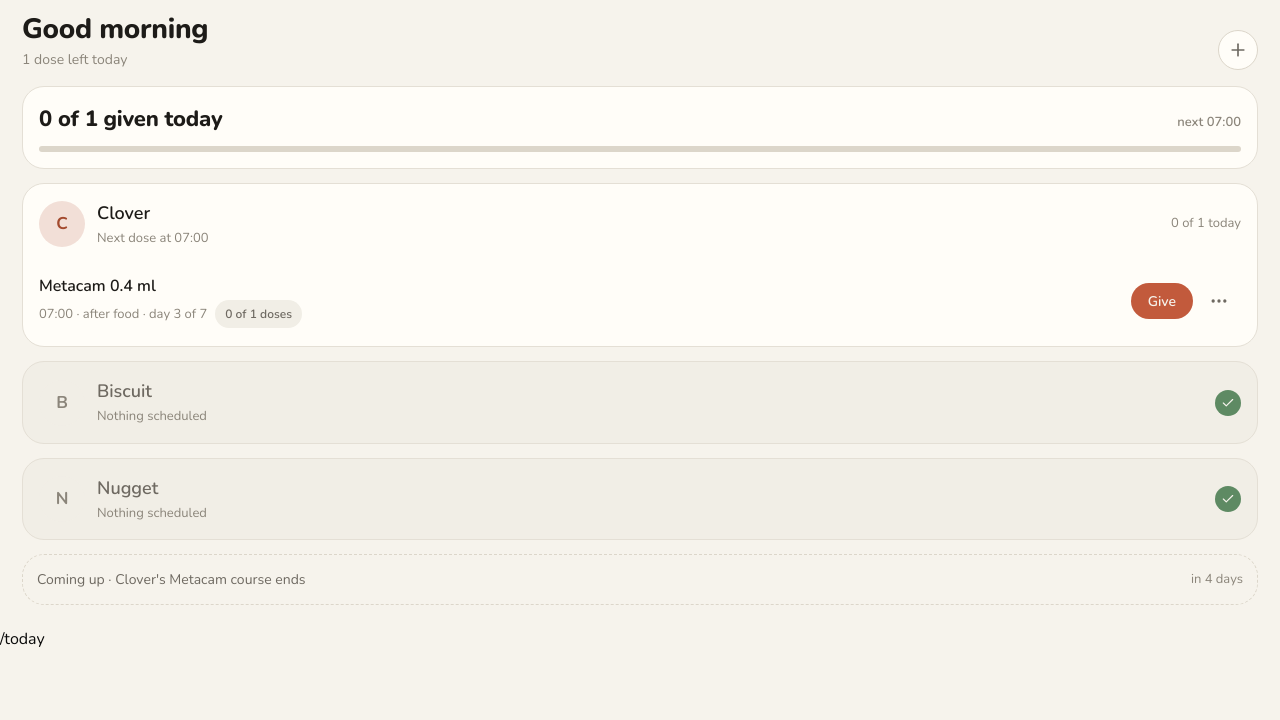
Test: TodayPage › closes the sheet without logging when dismissed via its close control, without leaving the dashboard
Click the button named "more options": point(1219, 301) [1197,279,1241,323]
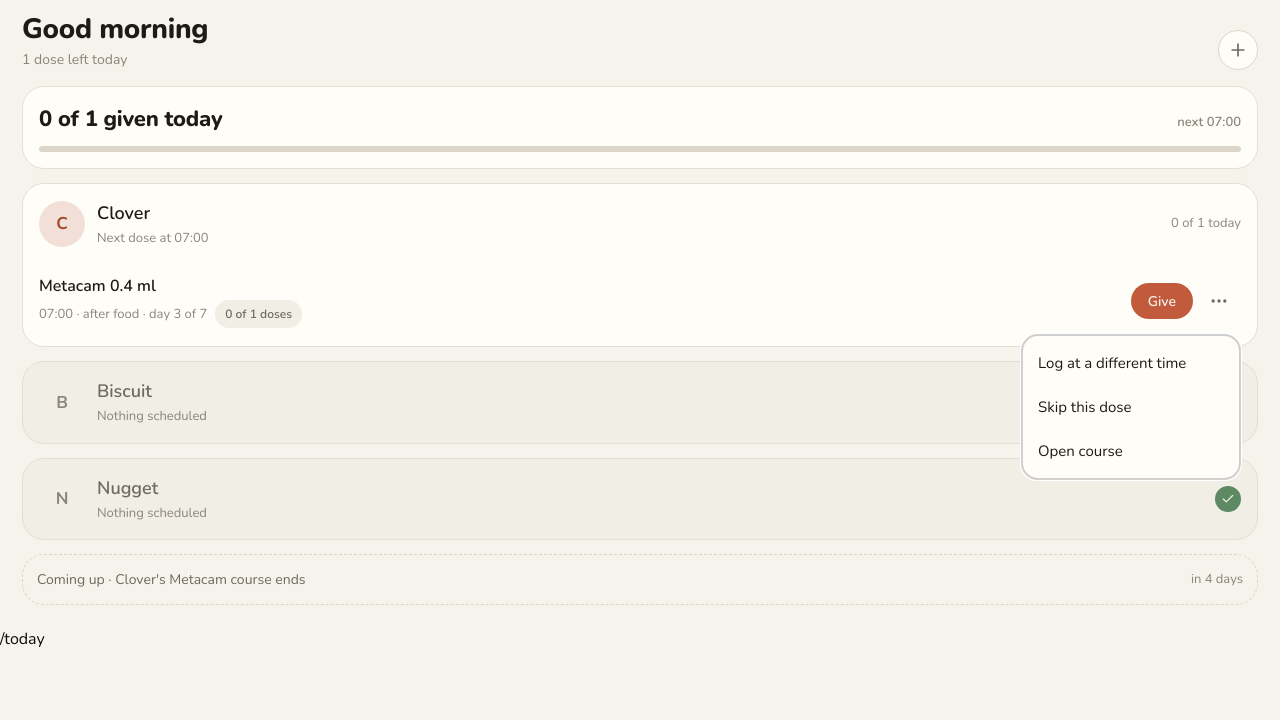
Click the menu item "Log at a different time": point(1112, 363) [1038,353,1186,373]
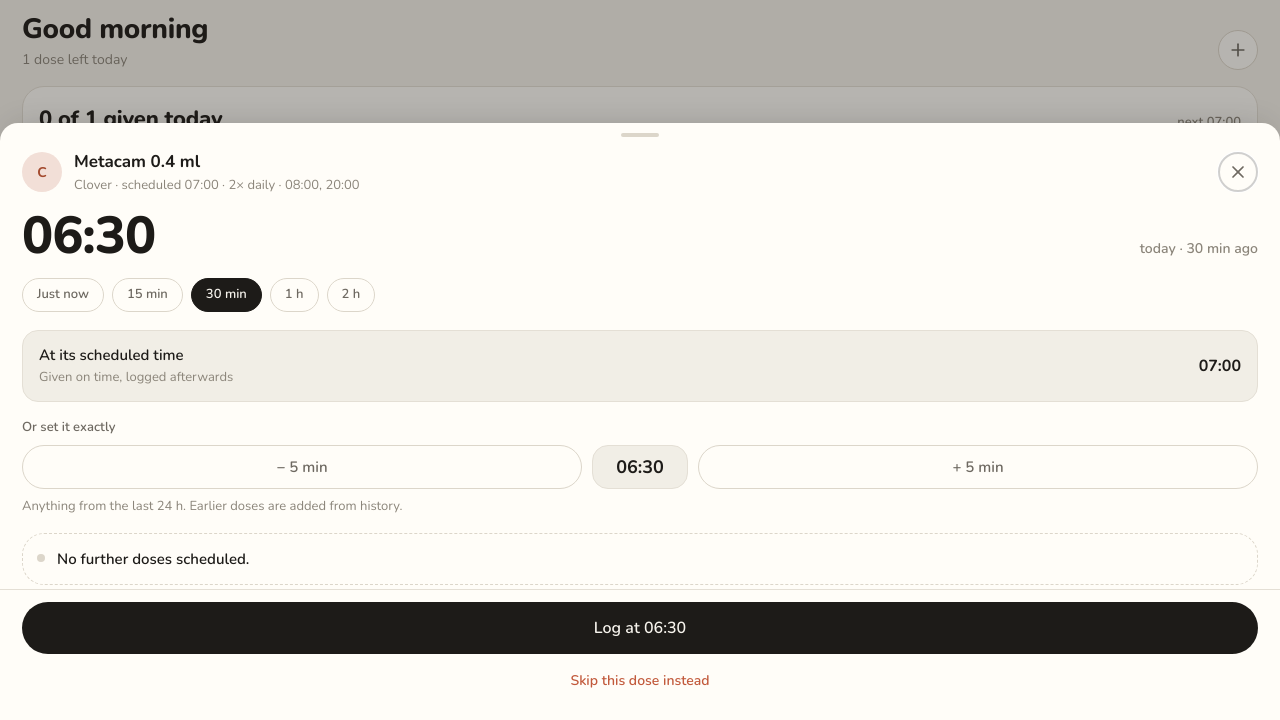
expect the text with test id "pathname" reads "/today": met, box [0,628,45,650]
expect the dialog is shown: met
Click the button named "Close": point(1238, 172) [1218,152,1258,192]
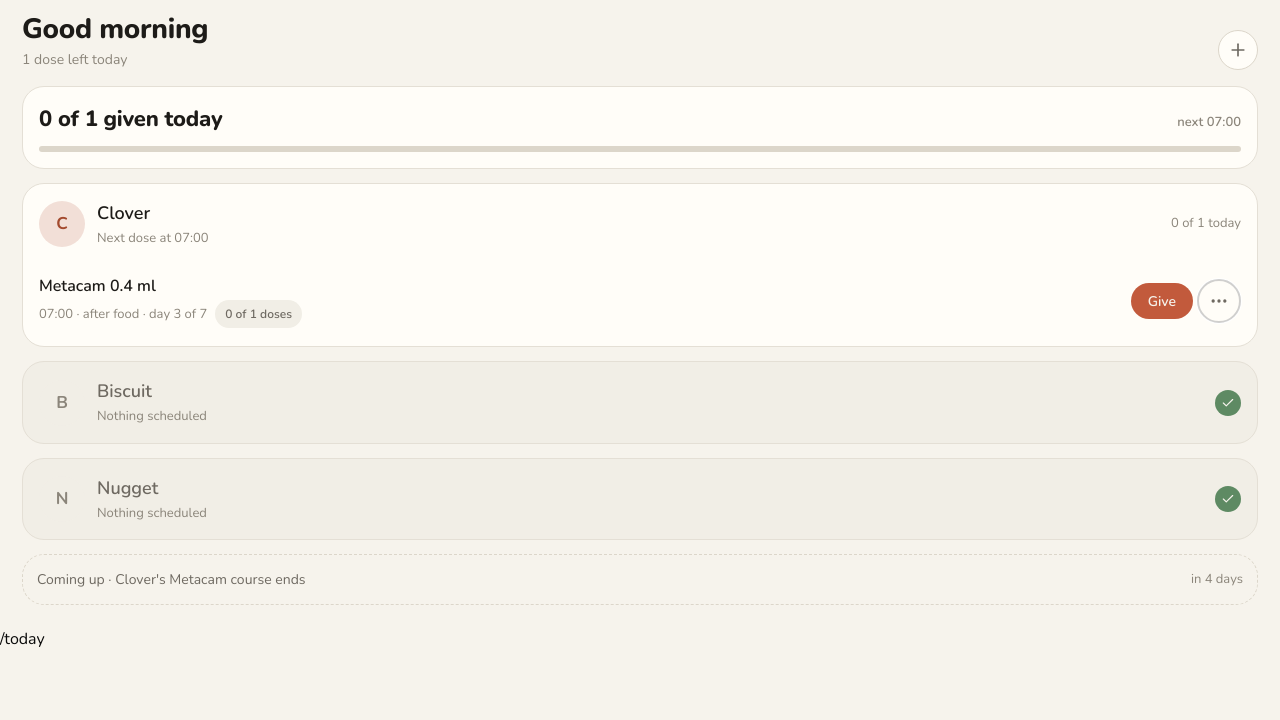
expect the text with test id "pathname" reads "/today": met, box [0,628,45,650]
expect the dialog is gone: met
